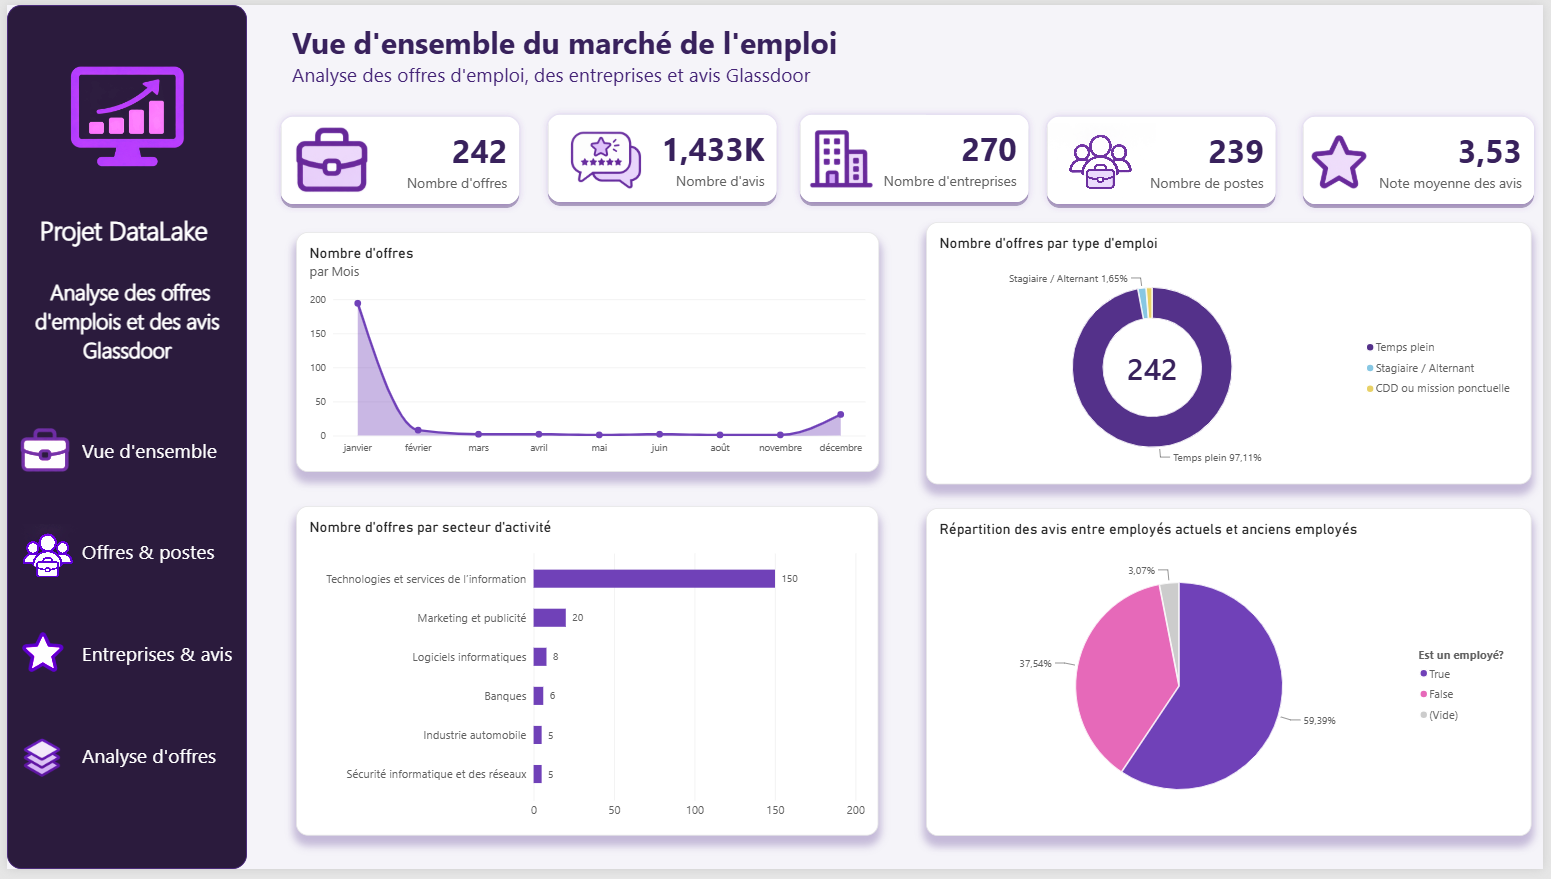

The dashboard page shown, as its layout file describes it:
{"tool":"powerbi","page":{"name":"Vue d'ensemble du marché de l'emploi","canvas":[1920,1080],"ordinal":0},"visuals":[{"type":"shape","box":[0,0,300,1080],"z":0,"group":"g6"},{"type":"textbox","box":[356.7,21.7,848.3,105],"z":0},{"type":"cardVisual","fields":{"Data":["Mesures.Nombre d'offres"]},"box":[331.8,128.3,320,131.7],"z":0,"group":"g3"},{"type":"cardVisual","fields":{"Data":["Mesures.Note moyenne des avis"]},"box":[1608.3,128.3,311.7,131.7],"z":1000},{"type":"image","box":[356.8,151.6,98.3,81.7],"z":1000,"group":"g3"},{"type":"image","box":[6.7,528.3,81.7,55],"z":1000,"group":"g6"},{"type":"cardVisual","fields":{"Data":["Mesures.Nombre total d'entreprises"]},"box":[980,126.7,308.3,131.7],"z":2000,"group":"g4"},{"type":"group","id":"g1","title":"Groupe 1","box":[1288.3,128.3,308.3,131.7],"z":2000},{"type":"image","box":[1628.5,161.6,75,66.7],"z":2000,"group":"g3"},{"type":"image","box":[13.3,783.3,61.7,50],"z":2000,"group":"g6"},{"type":"cardVisual","fields":{"Data":["Mesures.Nombre d'avis"]},"box":[665,126.7,308.3,131.7],"z":3000,"group":"g2"},{"type":"group","id":"g2","title":"Groupe 2","box":[665,126.7,308.3,131.7],"z":3000},{"type":"textbox","box":[13.3,258.3,273.3,213.3],"z":3000,"group":"g6"},{"type":"lineChart","title":"Evolution du nombre d''offres par mois","fields":{"Category":["Dim Date.date_jour.Variation.Hiérarchie de dates.Mois"],"Y":["Mesures.Nombre d'offres"]},"box":[361.7,271.7,728.3,328.3],"z":4000},{"type":"textbox","box":[93.3,540,193.3,498.9],"z":4000,"group":"g6"},{"type":"group","id":"g3","title":"Groupe 3","box":[331.8,128.3,1371.7,131.7],"z":5000},{"type":"cardVisual","fields":{"Data":["Mesures.Nombre de postes proposés"]},"box":[1288.3,128.3,308.3,131.7],"z":5000,"group":"g5"},{"type":"group","id":"g4","title":"Groupe 4","box":[980,126.7,308.3,131.7],"z":6000},{"type":"image","box":[1298.3,146.6,136.7,95],"z":6003,"group":"g5"},{"type":"image","box":[13.3,648.3,75,76.7],"z":6003,"group":"g6"},{"type":"image","box":[671.7,133.4,161.7,113.3],"z":6005,"group":"g2"},{"type":"donutChart","title":"Nombre d''offres par type d''emploi","fields":{"Category":["Dim poste.type_emploi"],"Y":["Mesures.Nombre d'offres"]},"box":[1148.3,271.7,756.7,328.3],"z":7000},{"type":"barChart","fields":{"Category":["Dim poste.secteur d'activité"],"Y":["Mesures.Nombre d'offres"]},"box":[361.7,626.7,728.3,411.7],"z":8000},{"type":"pieChart","title":"Répartition des avis entre employés actuels et anciens employés","fields":{"Category":["Fait avis.est_employe_actuel"],"Y":["Mesures.Nombre d'avis"]},"box":[1148.3,628.3,756.7,410],"z":9000},{"type":"image","box":[995,156.7,95,71.7],"z":9001,"group":"g4"},{"type":"group","id":"g5","title":"Groupe 5","box":[1288.3,128.3,308.3,131.7],"z":9003,"group":"g1"},{"type":"group","id":"g6","title":"Groupe 6","box":[0,0,300,1080],"z":10000,"group":"g7"},{"type":"slicer","fields":{"Values":["Dim Date.date_jour.Variation.Hiérarchie de dates.Année"]},"box":[1108.9,40,784.4,67.8],"z":11000},{"type":"image","box":[75,76.7,150,126.7],"z":11002,"group":"g6"},{"type":"image","box":[0,907.8,75.6,65.6],"z":12000,"group":"g7"},{"type":"group","id":"g7","title":"Groupe 7","box":[0,0,300,1080],"z":12001}]}

Visuals, with their boxes on the page's 1920x1080 design canvas (x1, y1, x2, y2). These are canvas units, not pixel positions in the 1551x879 screenshot, which may show the page scaled, cropped or inside an application window:
shape: [0, 0, 300, 1080]
textbox: [357, 22, 1205, 127]
cardVisual - Mesures.Nombre d'offres: [332, 128, 652, 260]
cardVisual - Mesures.Note moyenne des avis: [1608, 128, 1920, 260]
image: [357, 152, 455, 233]
image: [7, 528, 88, 583]
cardVisual - Mesures.Nombre total d'entreprises: [980, 127, 1288, 258]
"Groupe 1" group: [1288, 128, 1597, 260]
image: [1628, 162, 1704, 228]
image: [13, 783, 75, 833]
cardVisual - Mesures.Nombre d'avis: [665, 127, 973, 258]
"Groupe 2" group: [665, 127, 973, 258]
textbox: [13, 258, 287, 472]
"Evolution du nombre d''offres par mois" lineChart: [362, 272, 1090, 600]
textbox: [93, 540, 287, 1039]
"Groupe 3" group: [332, 128, 1704, 260]
cardVisual - Mesures.Nombre de postes proposés: [1288, 128, 1597, 260]
"Groupe 4" group: [980, 127, 1288, 258]
image: [1298, 147, 1435, 242]
image: [13, 648, 88, 725]
image: [672, 133, 833, 247]
"Nombre d''offres par type d''emploi" donutChart: [1148, 272, 1905, 600]
barChart - Dim poste.secteur d'activité x Mesures.Nombre d'offres: [362, 627, 1090, 1038]
"Répartition des avis entre employés actuels et anciens employés" pieChart: [1148, 628, 1905, 1038]
image: [995, 157, 1090, 228]
"Groupe 5" group: [1288, 128, 1597, 260]
"Groupe 6" group: [0, 0, 300, 1080]
slicer - Dim Date.date_jour.Variation.Hiérarchie de dates.Année: [1109, 40, 1893, 108]
image: [75, 77, 225, 203]
image: [0, 908, 76, 973]
"Groupe 7" group: [0, 0, 300, 1080]
